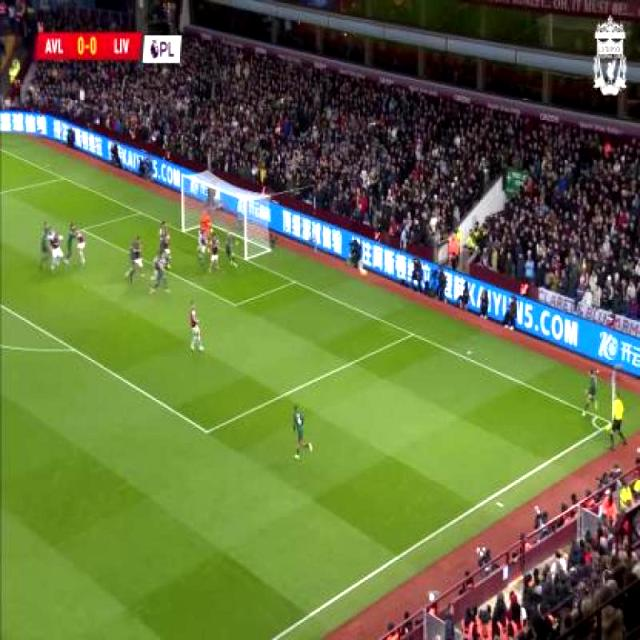bigarea_bottom_inner: (201, 423, 214, 442)
bigarea_bottom_outter: (406, 326, 417, 342)
bigarea_top_outter: (58, 171, 72, 186)
bottom_arc_area_intersection: (70, 342, 80, 360)
smallarea_bottom_inner: (230, 298, 243, 312)
smallarea_bottom_outter: (286, 276, 302, 290)
smallarea_top_inner: (77, 224, 88, 236)
smallarea_top_outter: (137, 206, 146, 219)
